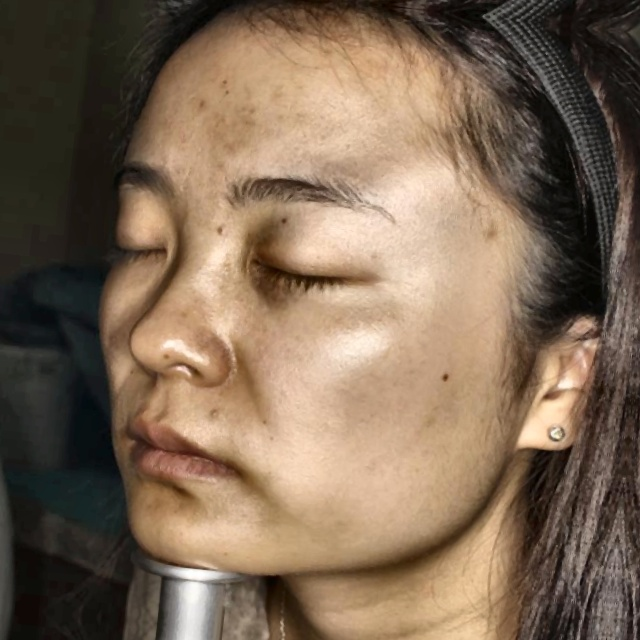comedone: (478, 221, 503, 250), (201, 397, 225, 427)
